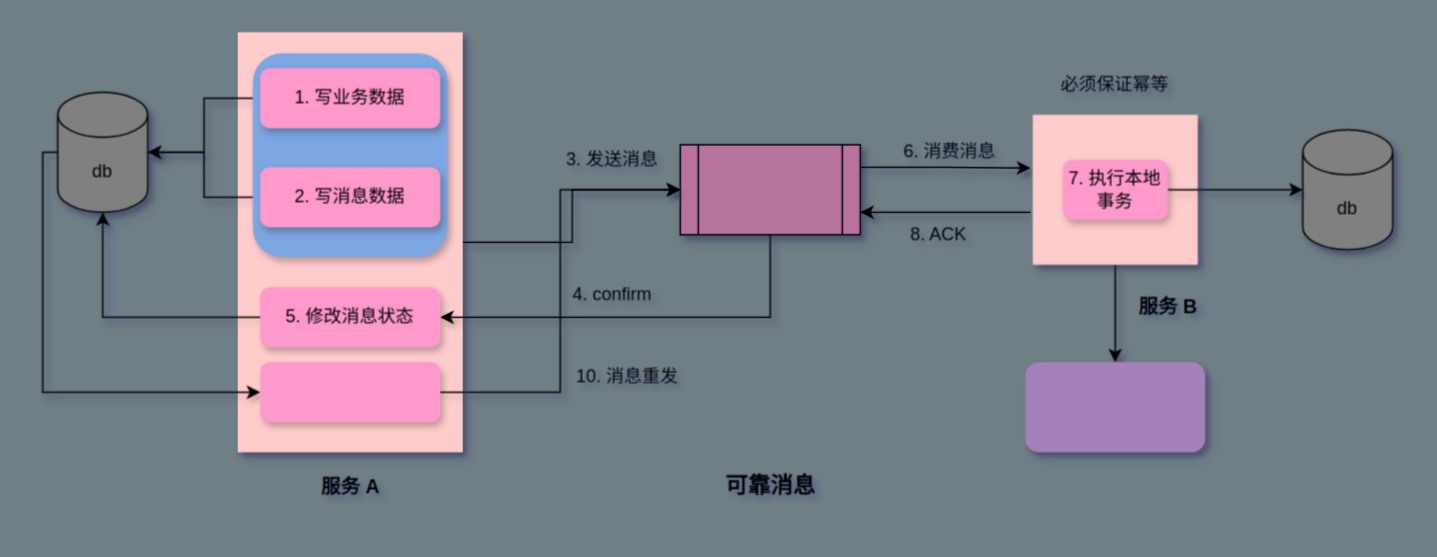
The diagram is 1437 pixels wide and 557 high, and some of its shapes have lost their labels. Here are the shapes that lost their labels. From the top down, the centre of each, then its label:
pixel 771 191: RabbitMQ
pixel 351 394: 9. 查询本地消息表
pixel 1116 409: 多次重试仍失败： 死信队列，告警
